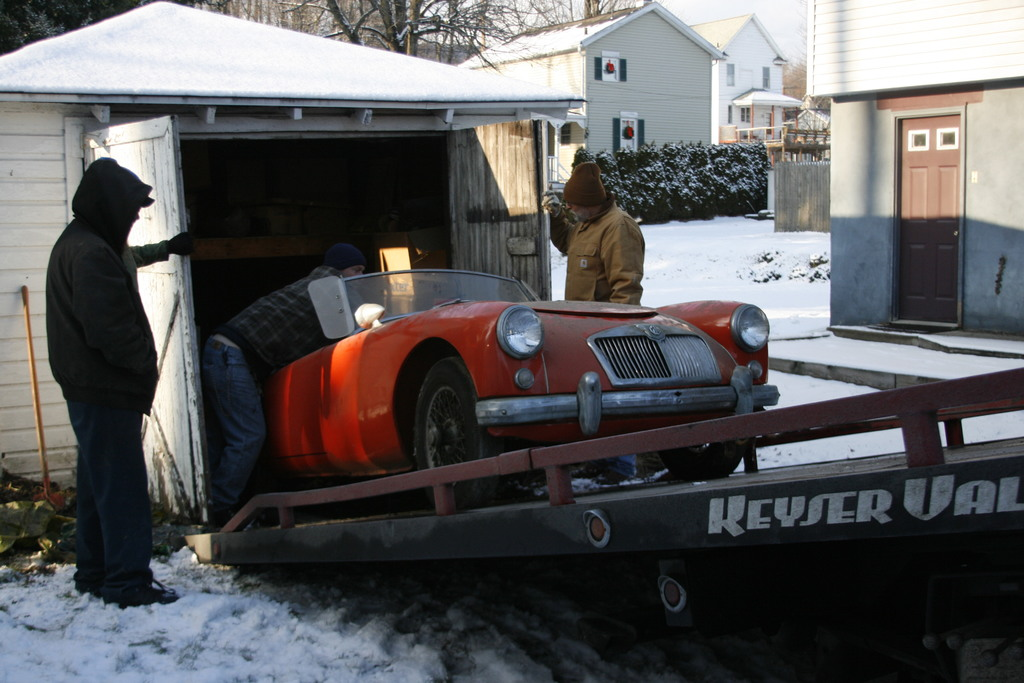Car: (192, 256, 815, 496)
